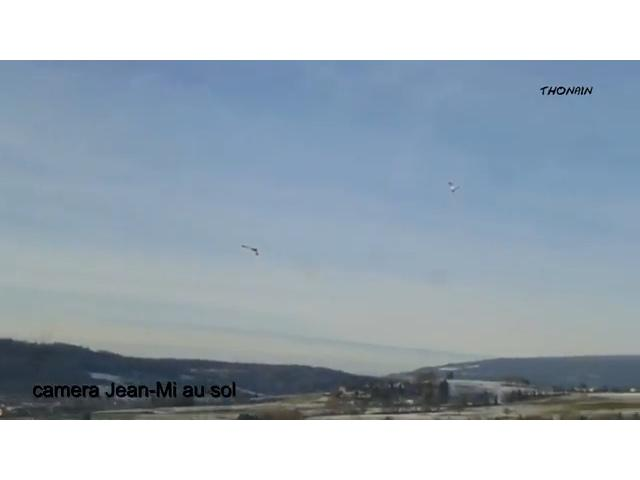Anti-Drone: (440, 178, 466, 202), (240, 242, 266, 256)
